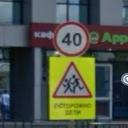speed_limit_40: (52, 20, 93, 58)
